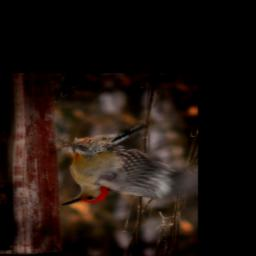Woodpecker: (60, 123, 195, 208)
